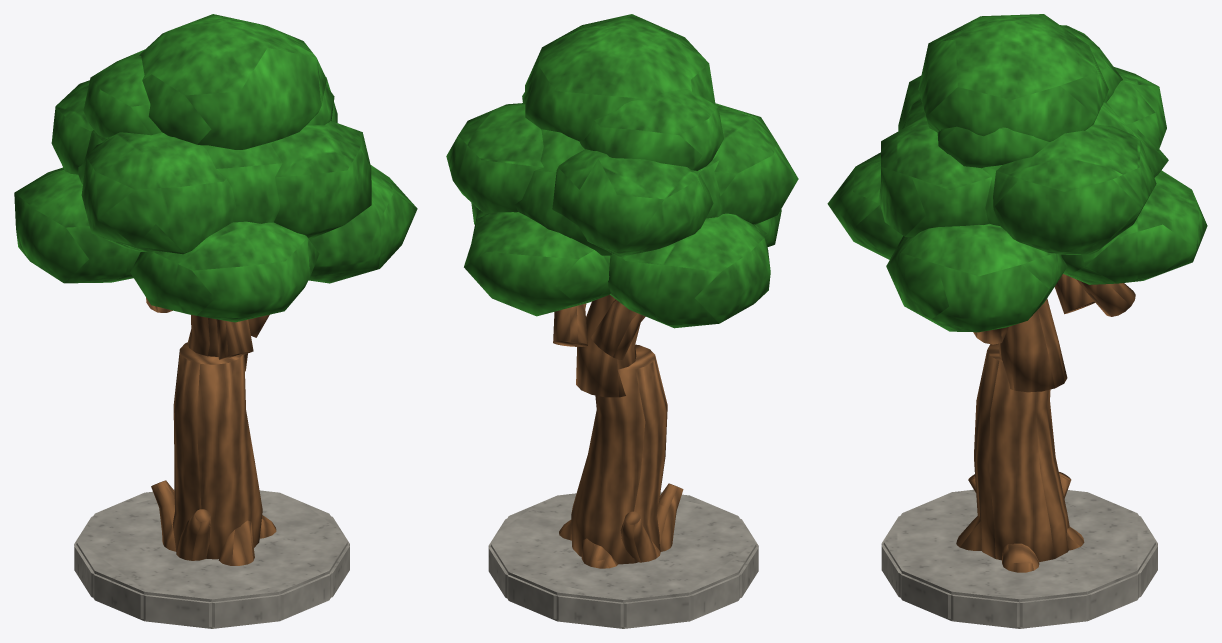
The model's file is env_tree_oak.glb.
3 renders of one model, left to right at view 1: azimuth 30°, elevation 25°; view 2: azimuth 150°, elevation 25°; view 3: azimuth 270°, elevation 25°, orthographic. The views are drawn at different scales.
Visible parts, largest first — view 1: env_tree_oak; view 2: env_tree_oak; view 3: env_tree_oak.
Boxes of the visible parts, x1,y1,x2,y2 form: env_tree_oak: [14, 14, 417, 628]; env_tree_oak: [446, 14, 798, 628]; env_tree_oak: [827, 14, 1207, 628].
Bounding box in the file's own units: 1.88 × 3 × 1.86.
Materials: 5 (5 with a texture image).
